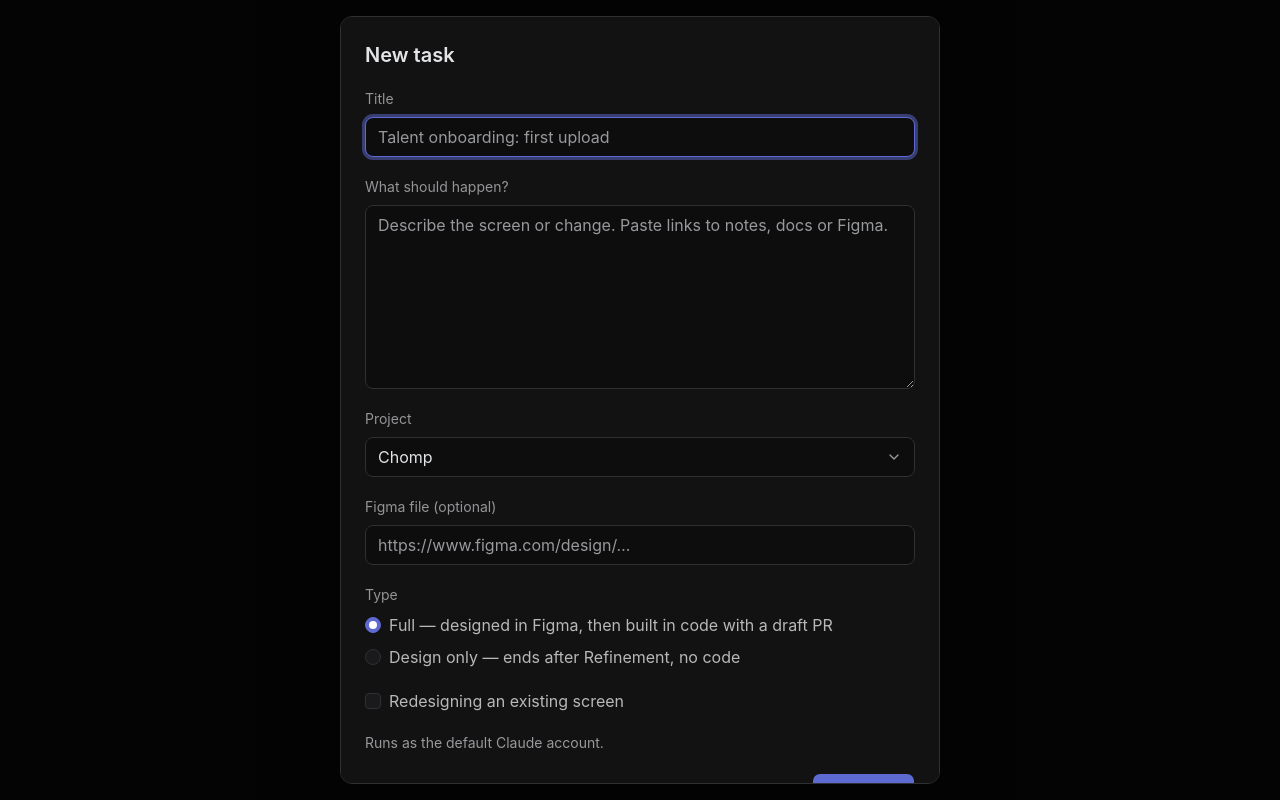
NewTaskDialog › fills the Figma field from a link in the request
Check: the dialog is shown, box x1=340 y1=16 x2=940 y2=784
// Pasted, as links are: typed one key at a time, the first partial link would win (as on the classic board).
Step 1. Click the text box labelled "What should happen?" → (640, 297), box x1=365 y1=205 x2=915 y2=389
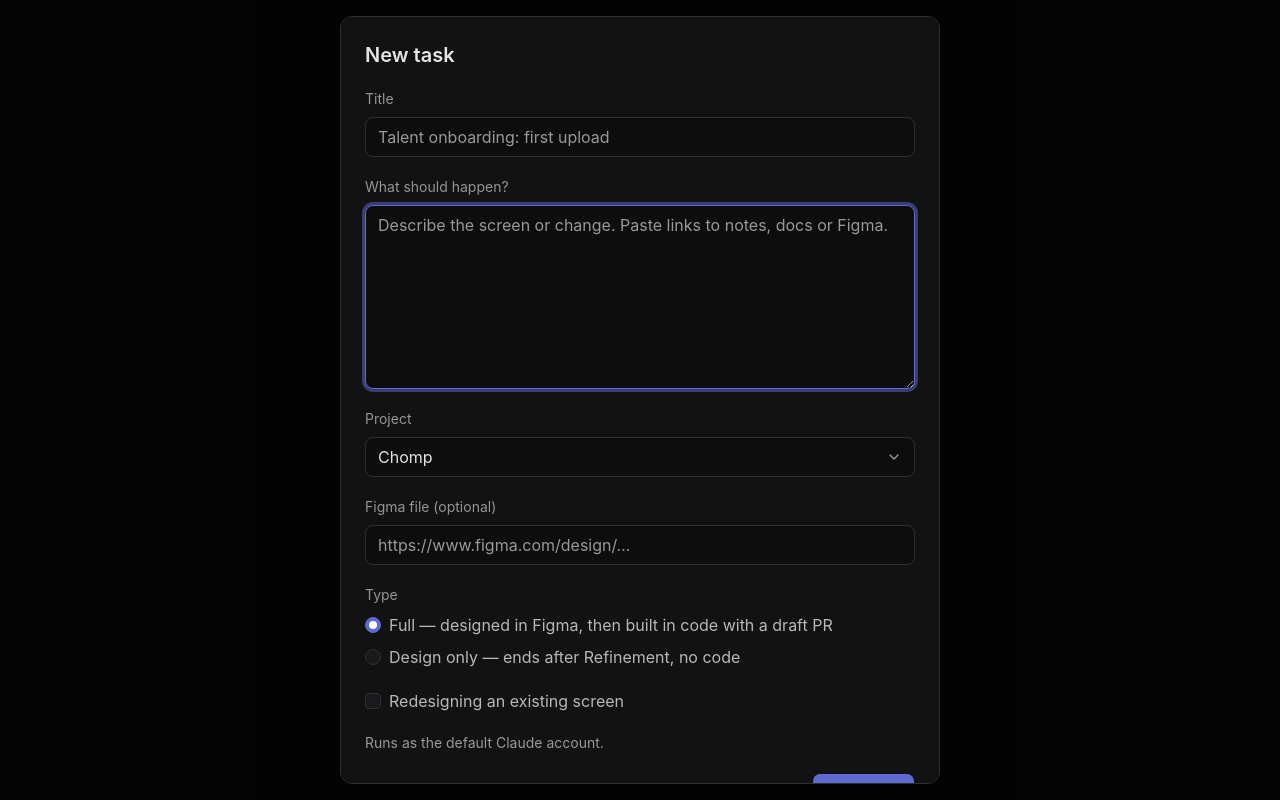
Step 2. Type keys "Frames at https://www.figma.com/design/abc/X "
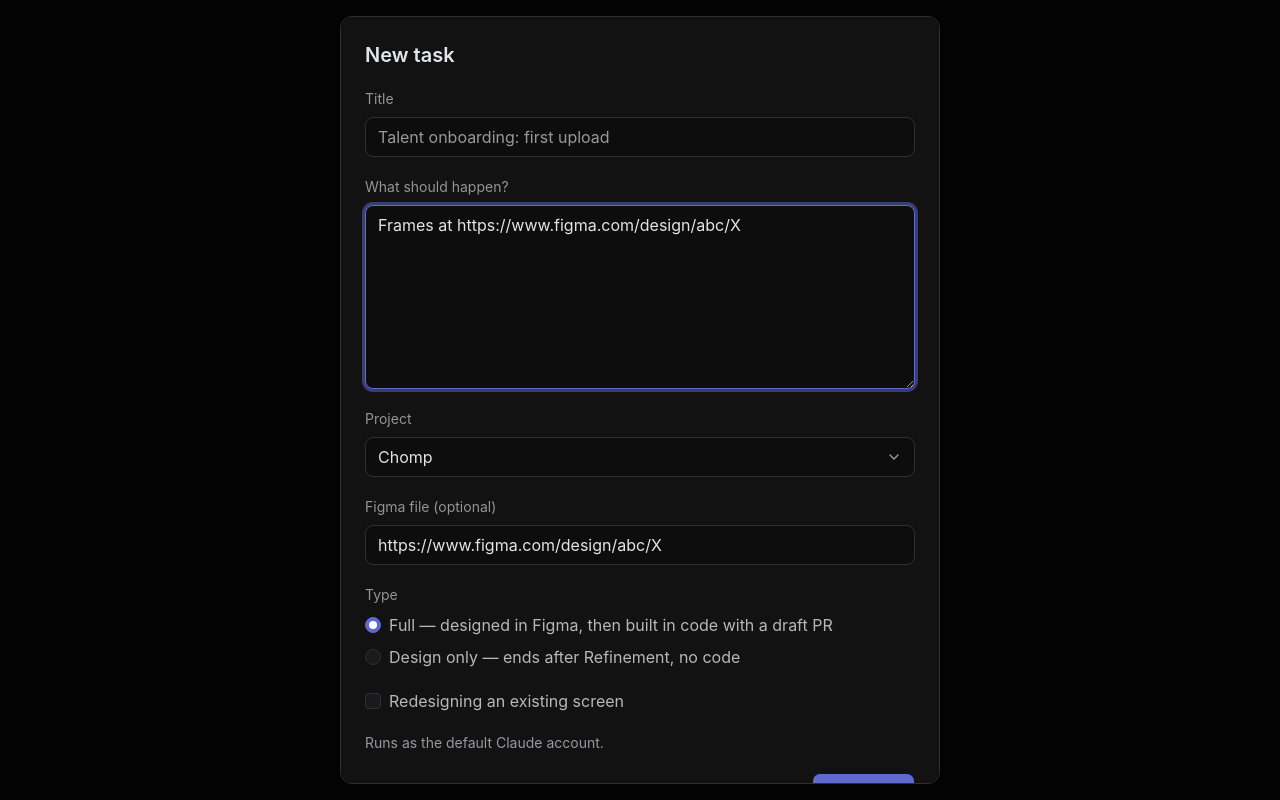
Check: the field labelled "Figma file (optional)" holds "https://www.figma.com/design/abc/X", box x1=365 y1=525 x2=915 y2=565
